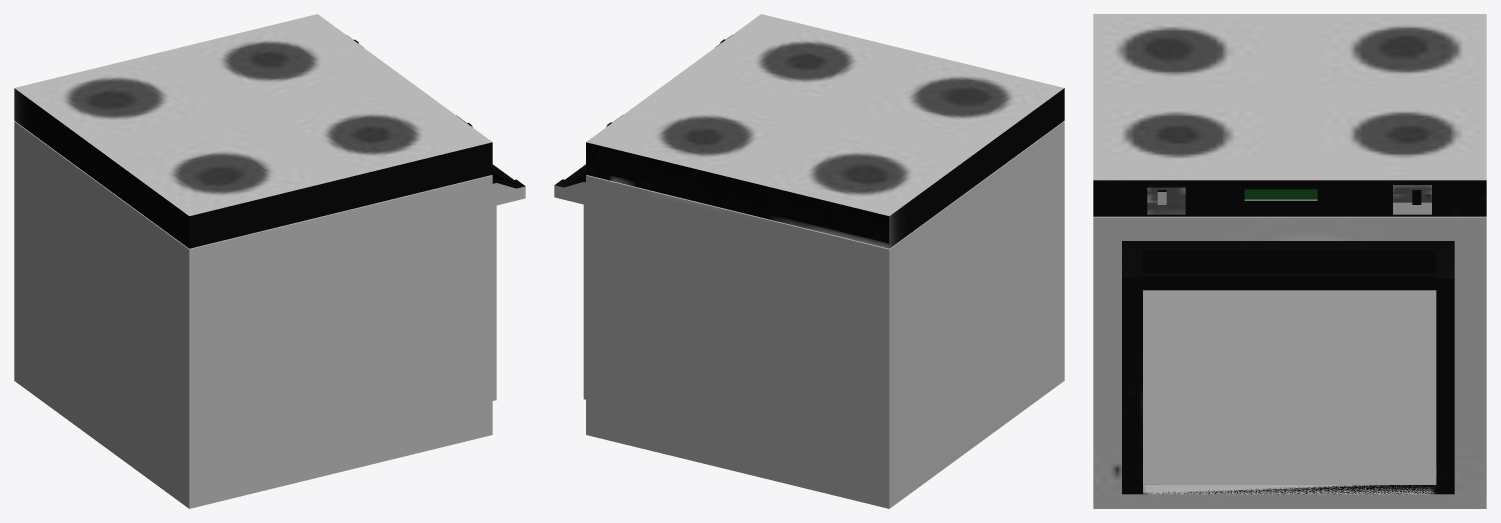
The model's file is Ovenglass.fbx.
The picture shows the model from 3 angles, left to right: view 1: azimuth 30°, elevation 25°; view 2: azimuth 150°, elevation 25°; view 3: azimuth 270°, elevation 25°; orthographic projection. The views are drawn at different scales.
Parts seen in each view (by area): view 1: Oven/Stove; view 2: Oven/Stove; view 3: Oven/Stove.
Part boxes in pixels (x1,y1,x2,y2): Oven/Stove: (14,14,525,508); Oven/Stove: (554,14,1064,508); Oven/Stove: (1093,14,1486,508).
Size of the model in its own units: 230 by 188 by 200.
2 materials, 1 textured.
